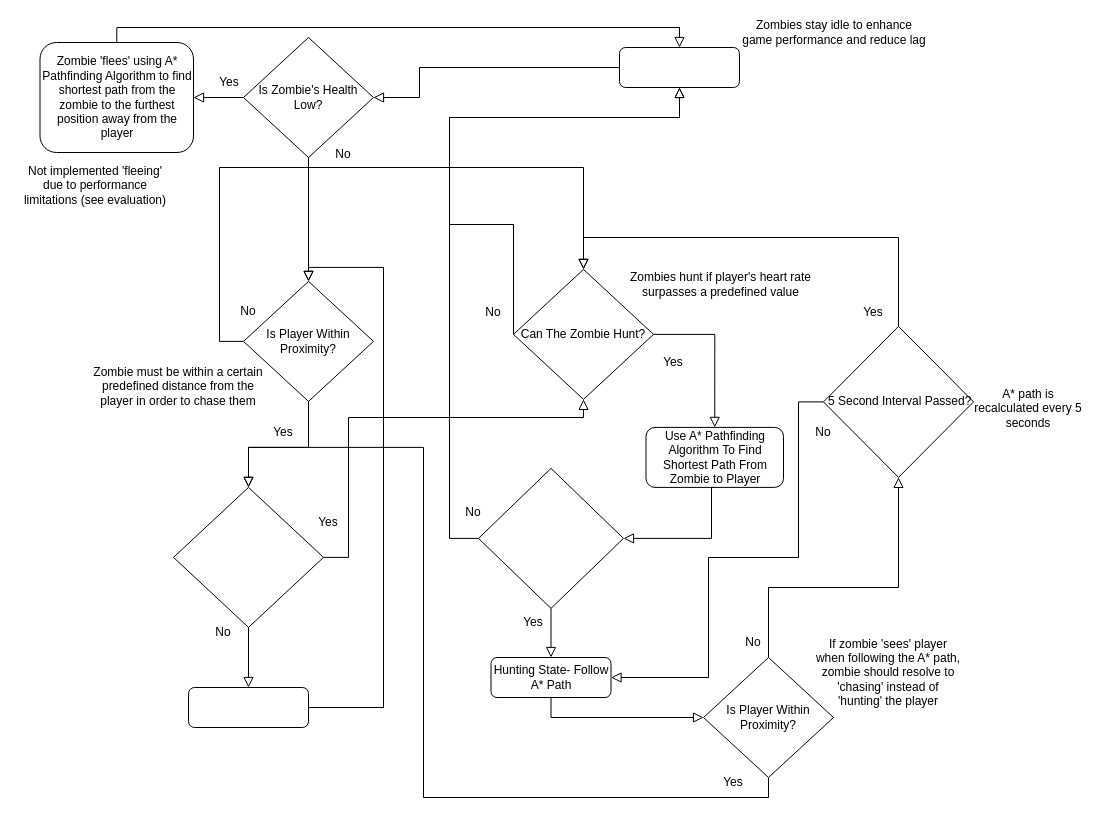
This 1100x825 diagram has some shape labels left out. Each missing label, with the centre of its shape:
Are there any walls blocking the zombie's line of sight to the player?: the point at 248,556
Chasing State- Chase Player: the point at 248,707
Idle State- Stay Idle: the point at 679,67
Shortest Path Available?: the point at 551,537
